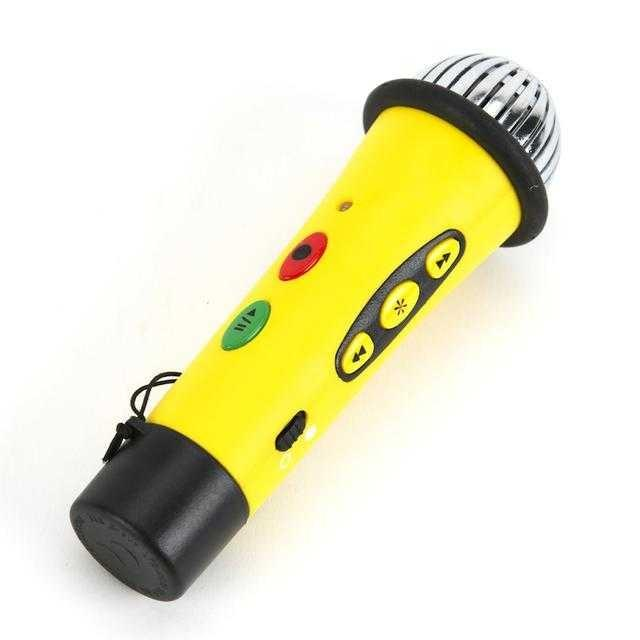microphone: (104, 68, 605, 593)
